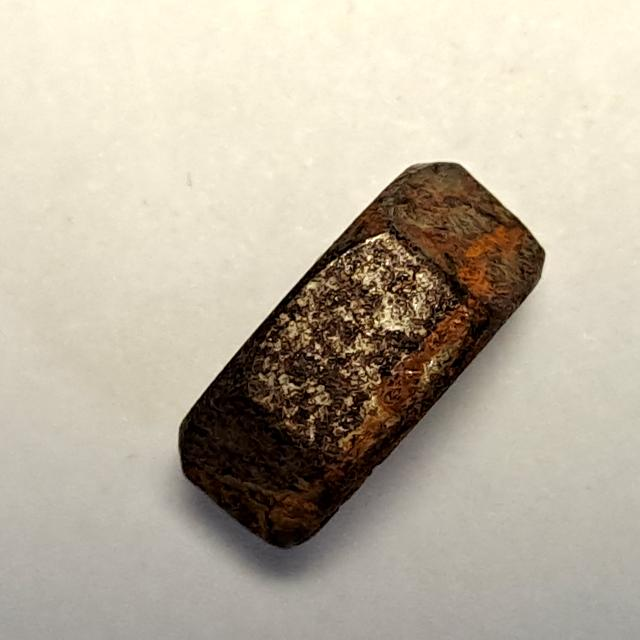Side_Rust: (164, 149, 556, 562)
